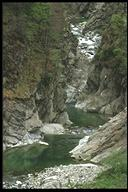mountain: (6, 5, 125, 187)
water: (3, 96, 112, 181)
